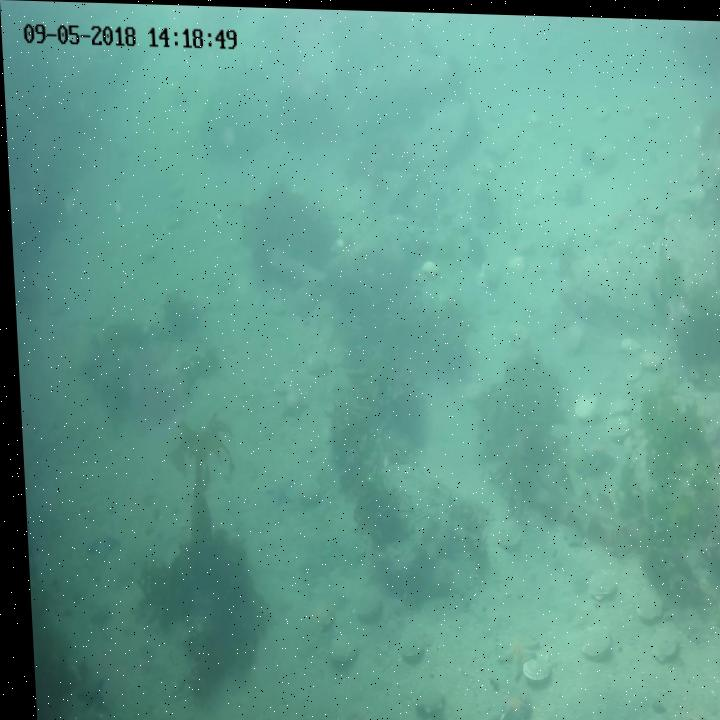scallop: (572, 621, 606, 659), (581, 560, 613, 600), (320, 631, 353, 666), (347, 585, 378, 622), (404, 681, 439, 713), (628, 588, 659, 623), (566, 386, 595, 418), (643, 632, 673, 661), (515, 653, 545, 682), (390, 631, 419, 661), (553, 515, 581, 546), (601, 412, 626, 436), (490, 525, 516, 548), (457, 377, 483, 400), (604, 392, 627, 413), (615, 332, 640, 350), (507, 250, 528, 271), (418, 256, 440, 275), (636, 348, 657, 366), (713, 581, 720, 622)
starfish: (487, 623, 533, 676), (78, 522, 118, 561), (68, 671, 100, 713), (490, 687, 527, 720), (260, 477, 288, 509), (276, 391, 306, 419), (84, 598, 109, 629)
